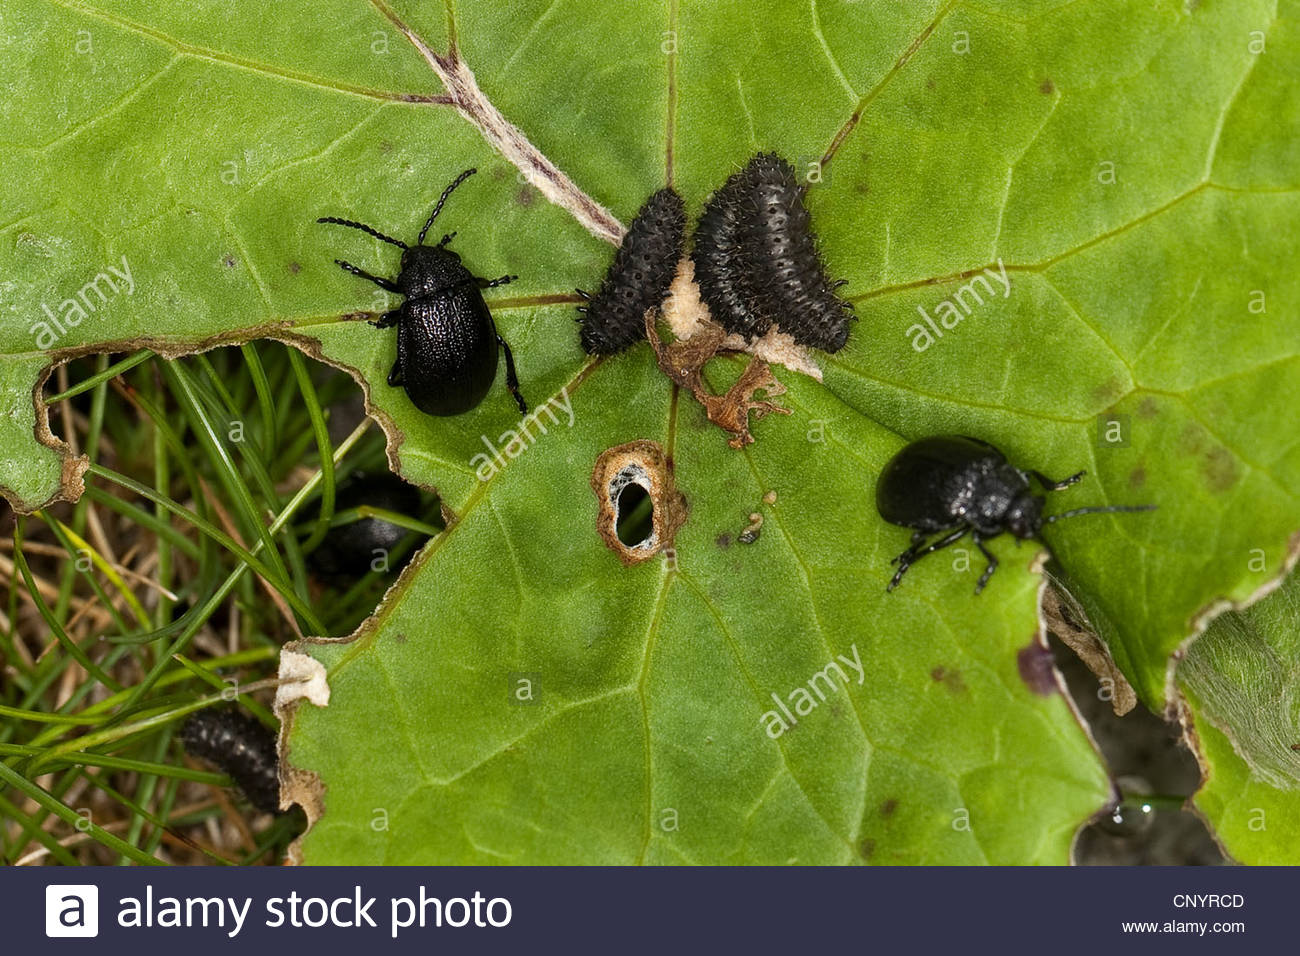Galeruca_tanaceti: (305, 162, 531, 426), (871, 420, 1106, 595)
